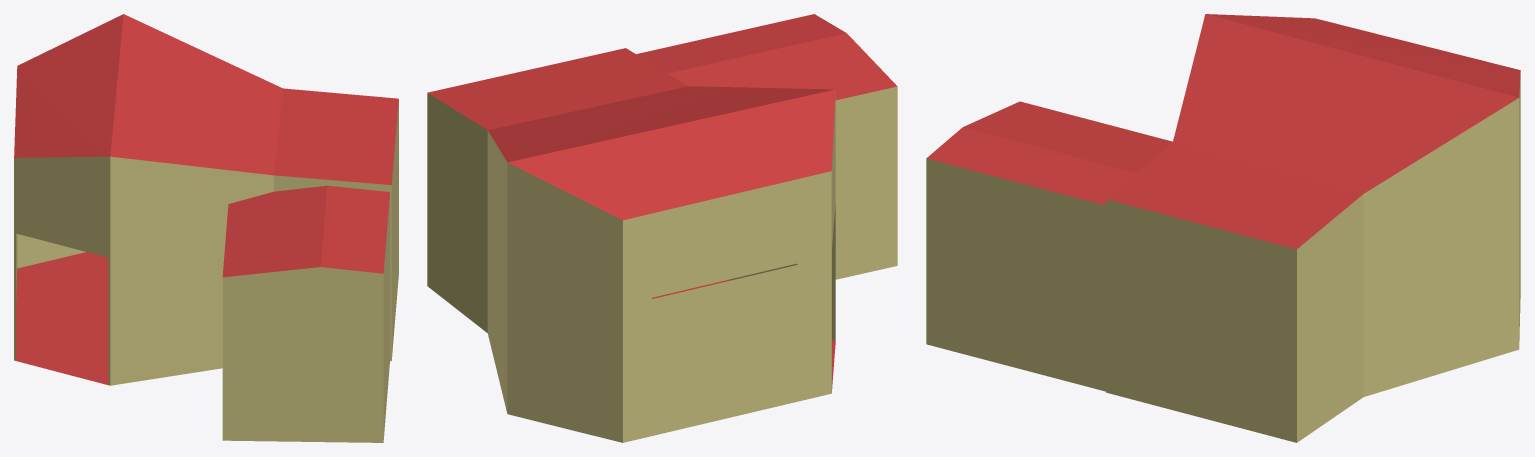
The picture shows the model from 3 angles, left to right: view 1: azimuth 30°, elevation 25°; view 2: azimuth 150°, elevation 25°; view 3: azimuth 270°, elevation 25°; orthographic projection. The views are drawn at different scales.
Parts seen in each view (by area): view 1: group_6, group_7, group_4, group_3, group_8; view 2: group_7, group_6, group_3, group_4; view 3: group_7, group_6, group_4, group_3.
Part boxes in pixels (x1=…): group_6: x1=14, y1=14, x2=398, y2=184; group_7: x1=14, y1=99, x2=398, y2=385; group_4: x1=222, y1=195, x2=389, y2=442; group_3: x1=222, y1=185, x2=389, y2=277; group_8: x1=16, y1=252, x2=108, y2=384; group_7: x1=427, y1=93, x2=835, y2=442; group_6: x1=427, y1=48, x2=835, y2=220; group_3: x1=636, y1=14, x2=897, y2=100; group_4: x1=835, y1=86, x2=897, y2=279; group_7: x1=1106, y1=73, x2=1520, y2=442; group_6: x1=1106, y1=14, x2=1520, y2=249; group_4: x1=926, y1=158, x2=1105, y2=391; group_3: x1=926, y1=101, x2=1172, y2=205.
Size of the model in its own units: 31.36 by 39 by 18.24.
